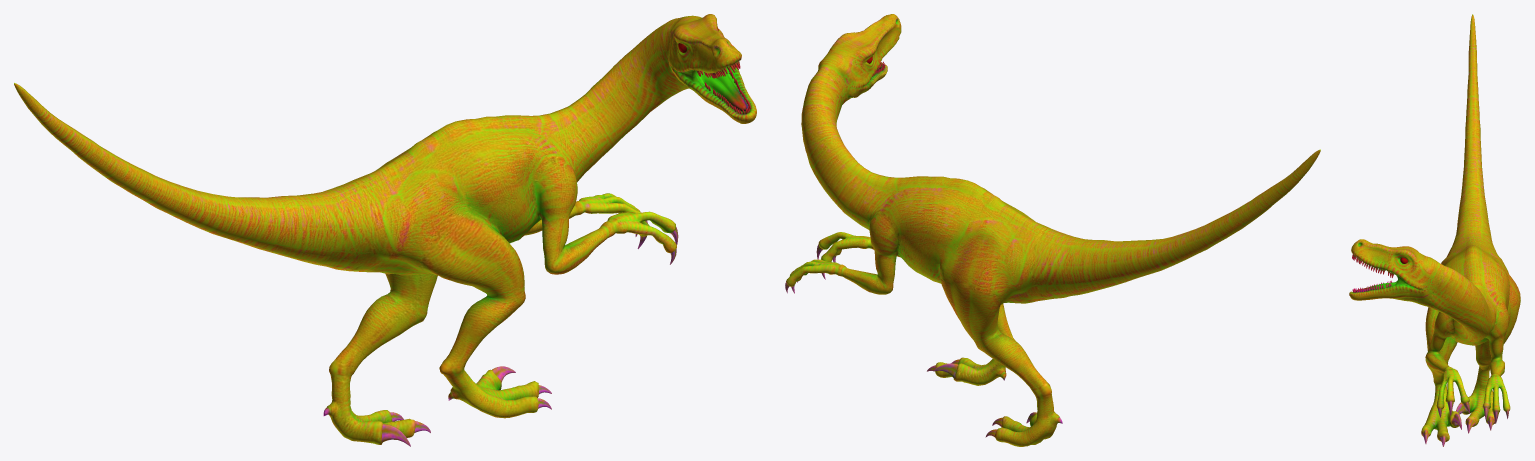
Rendered from Velociraptor.glb.
3 views of the same model, side by side, from view 1: azimuth 30°, elevation 25°; view 2: azimuth 150°, elevation 25°; view 3: azimuth 270°, elevation 25° (orthographic). The views are drawn at different scales.
Parts seen in each view (by area): view 1: velociraptor.1; view 2: velociraptor.1; view 3: velociraptor.1.
Boxes of the visible parts, x1,y1,x2,y2 form: velociraptor.1: [14, 14, 756, 446]; velociraptor.1: [785, 14, 1320, 446]; velociraptor.1: [1349, 14, 1520, 446].
Bounding box in the file's own units: 0.6415 × 0.413 × 0.2218.
1 material, 1 textured.
